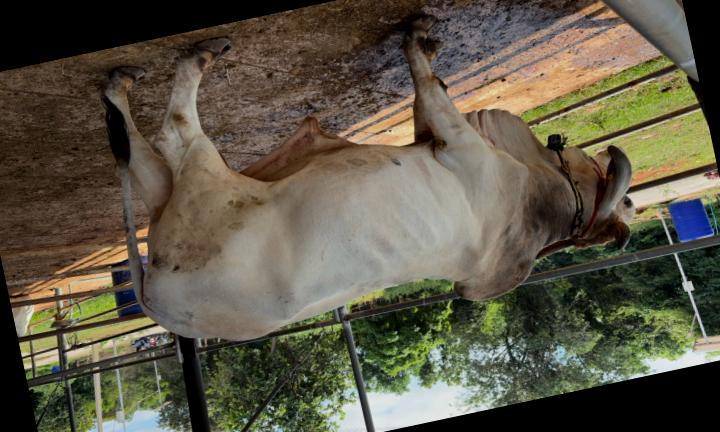Brahman: (100, 16, 634, 341)
